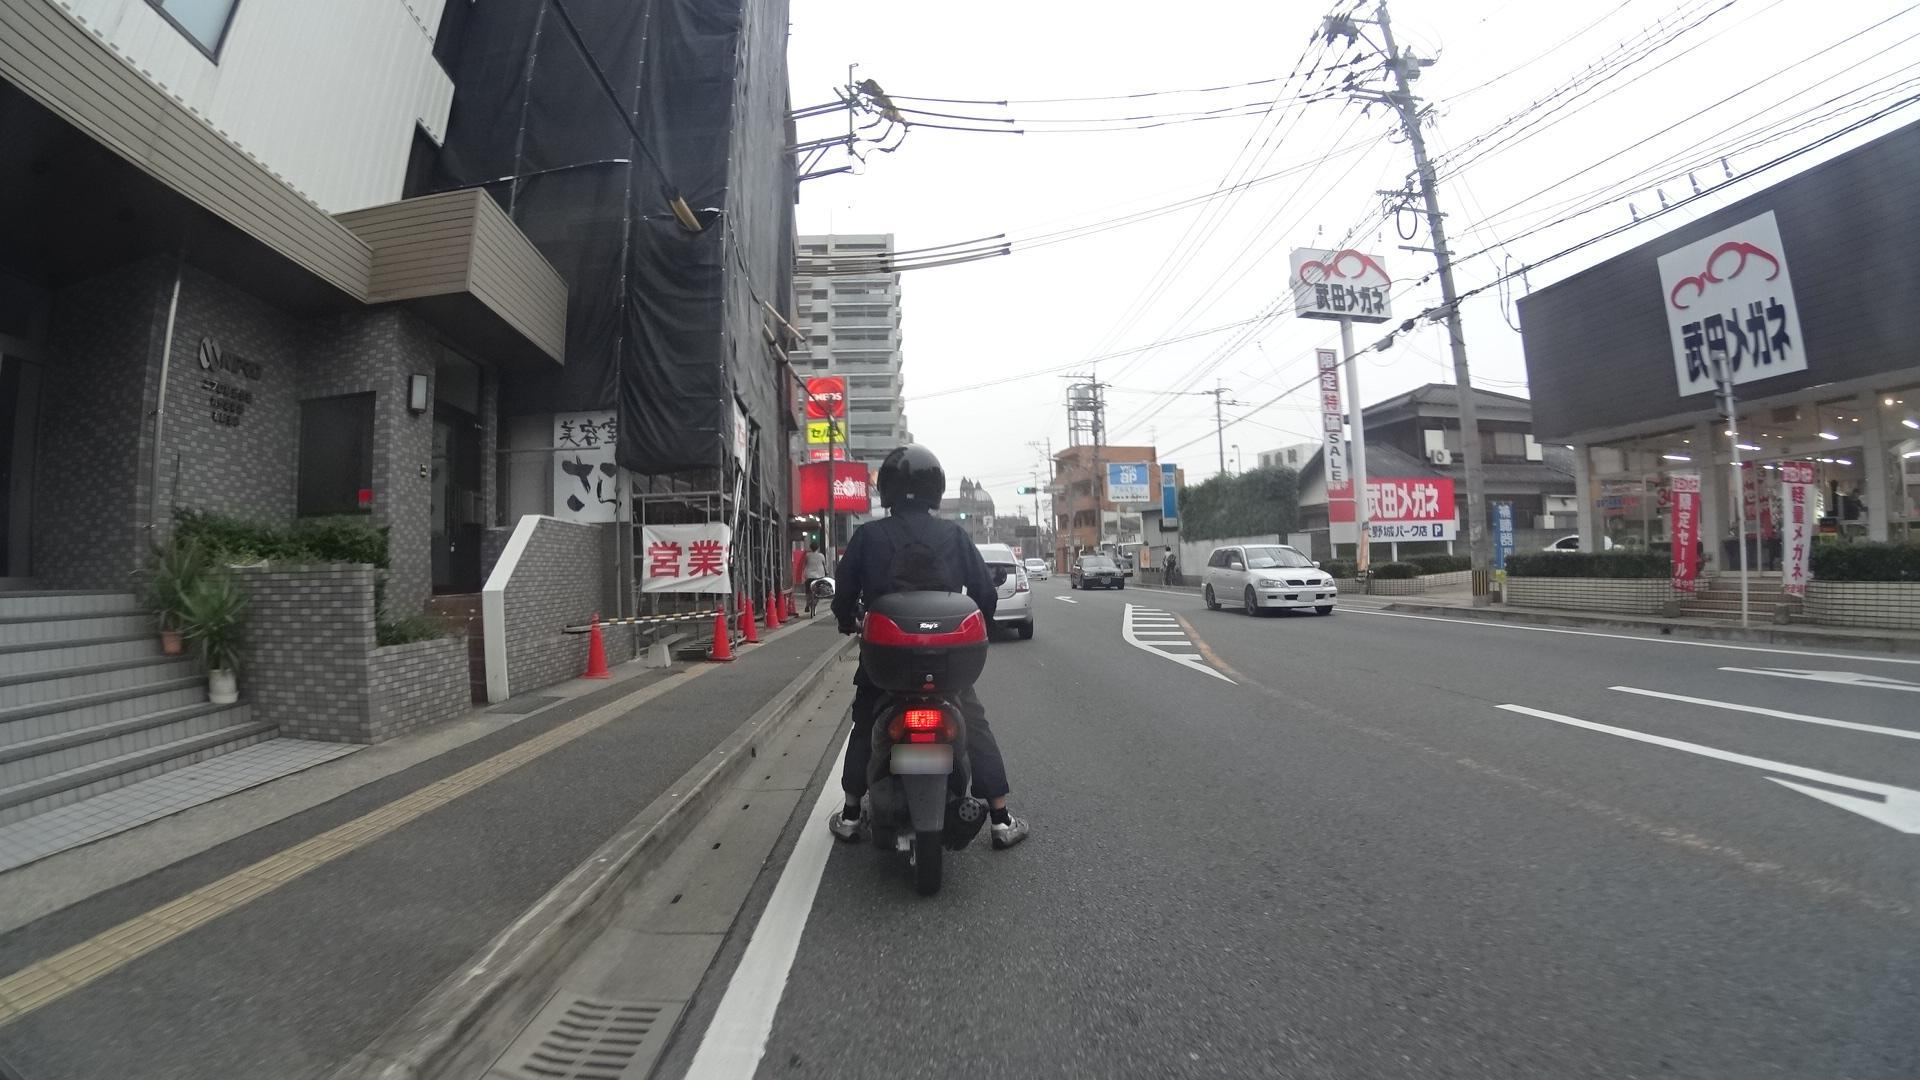vinyl banner: (632, 522, 752, 603)
